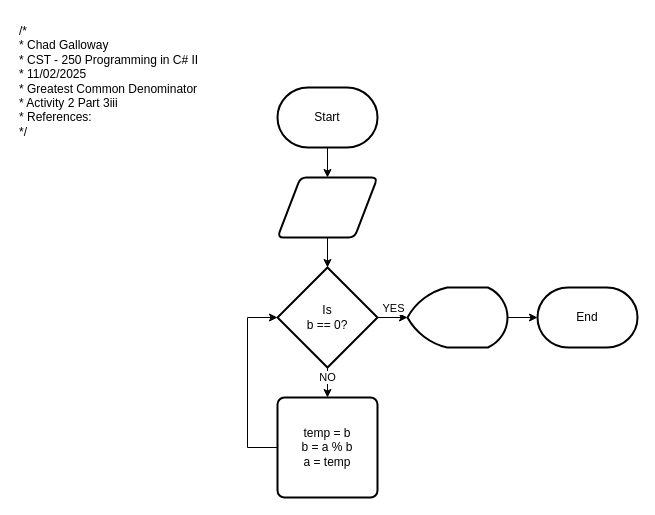
Some shapes in this 655 by 515 pixel diagram are drawn without their labels. The shapes that lost their labels are listed below. From the top down, each one's centre as x and y in pixels, then its label:
the point at 327,207: User input a, b
the point at 457,317: Display a
